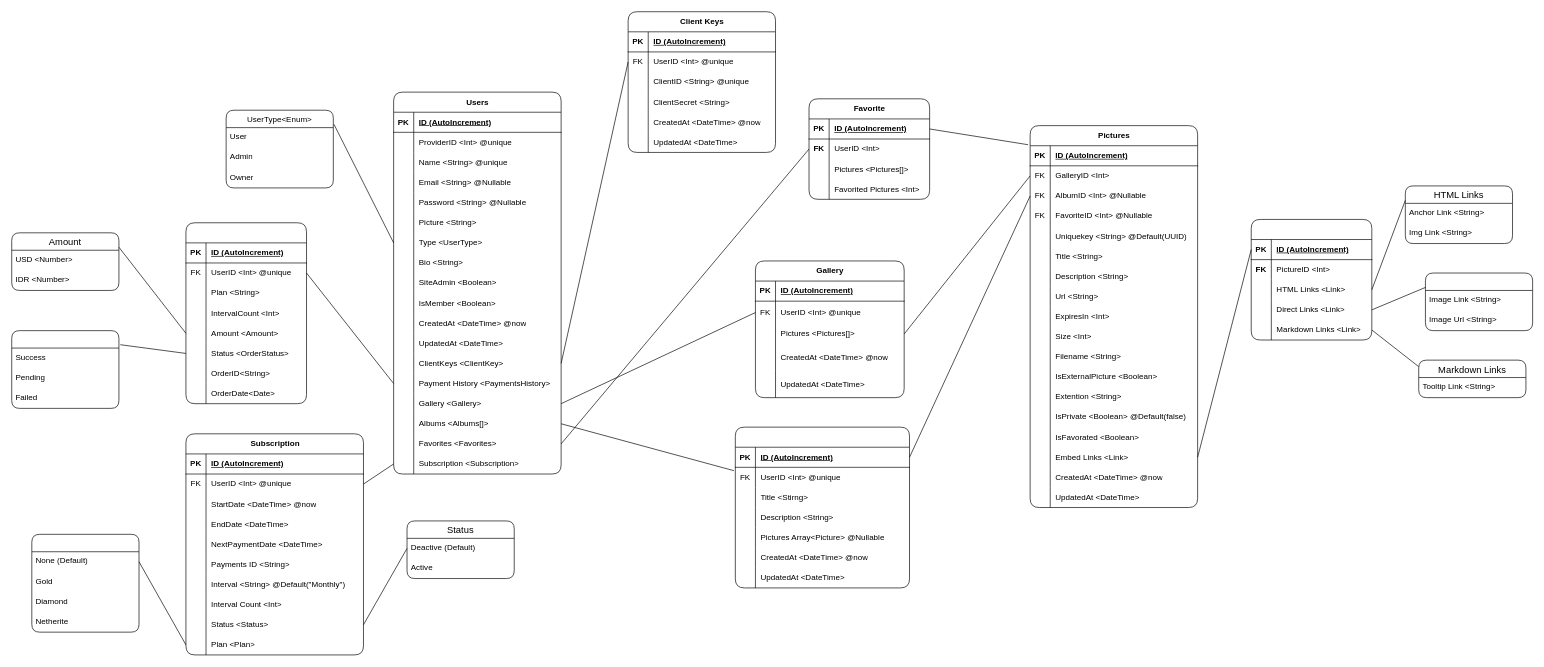
Some shapes in this 1544 by 667 pixel diagram are drawn without their labels. Here are the shapes that lost their labels. From the top down, the box of each, then its label:
(1251, 219, 1372, 340): Embed Links
(185, 222, 307, 404): Payments History
(1425, 272, 1533, 331): Direct Links
(11, 330, 119, 408): Order Status
(735, 426, 910, 588): Albums
(31, 534, 139, 632): Plans
